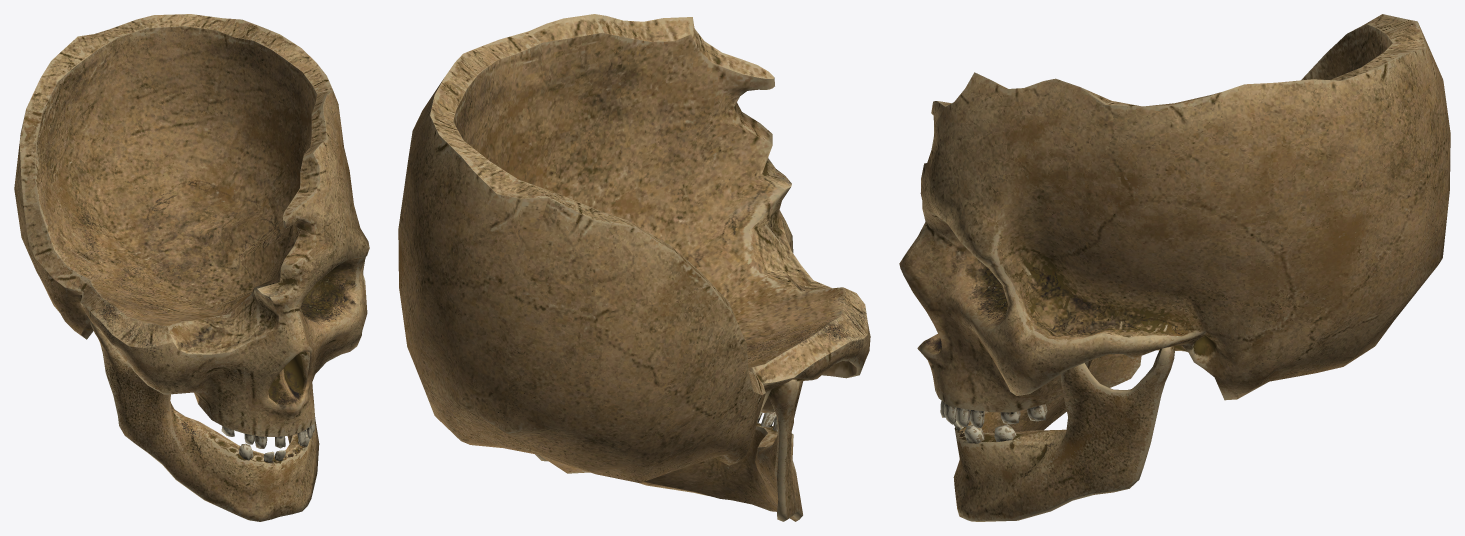
File: bone_skull_fractured_01.DAE
3 views of the same model, side by side, from view 1: azimuth 30°, elevation 25°; view 2: azimuth 150°, elevation 25°; view 3: azimuth 270°, elevation 25° (orthographic). The views are drawn at different scales.
Parts seen in each view (by area): view 1: bone_skull_fractured_01; view 2: bone_skull_fractured_01; view 3: bone_skull_fractured_01.
Boxes of the visible parts, <box> form: bone_skull_fractured_01: <box>14,14,369,521</box>; bone_skull_fractured_01: <box>398,14,870,521</box>; bone_skull_fractured_01: <box>899,14,1450,521</box>.
Bounding box in the file's own units: 15.45 × 21.51 × 21.91.
